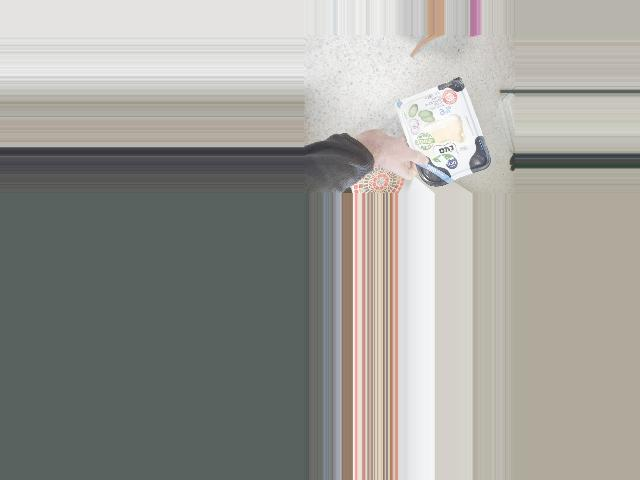cheese: (406, 88, 478, 175)
